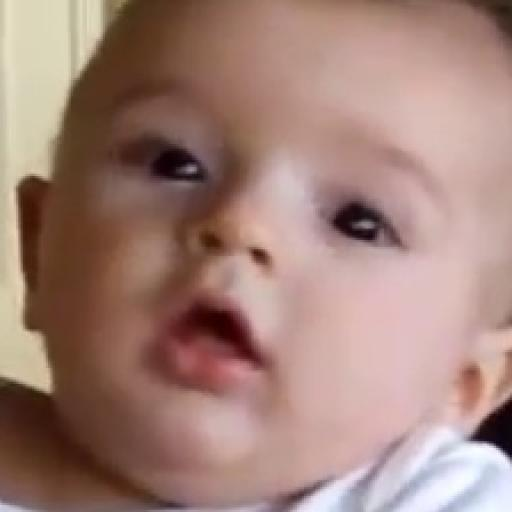Autism: (52, 22, 488, 504)
